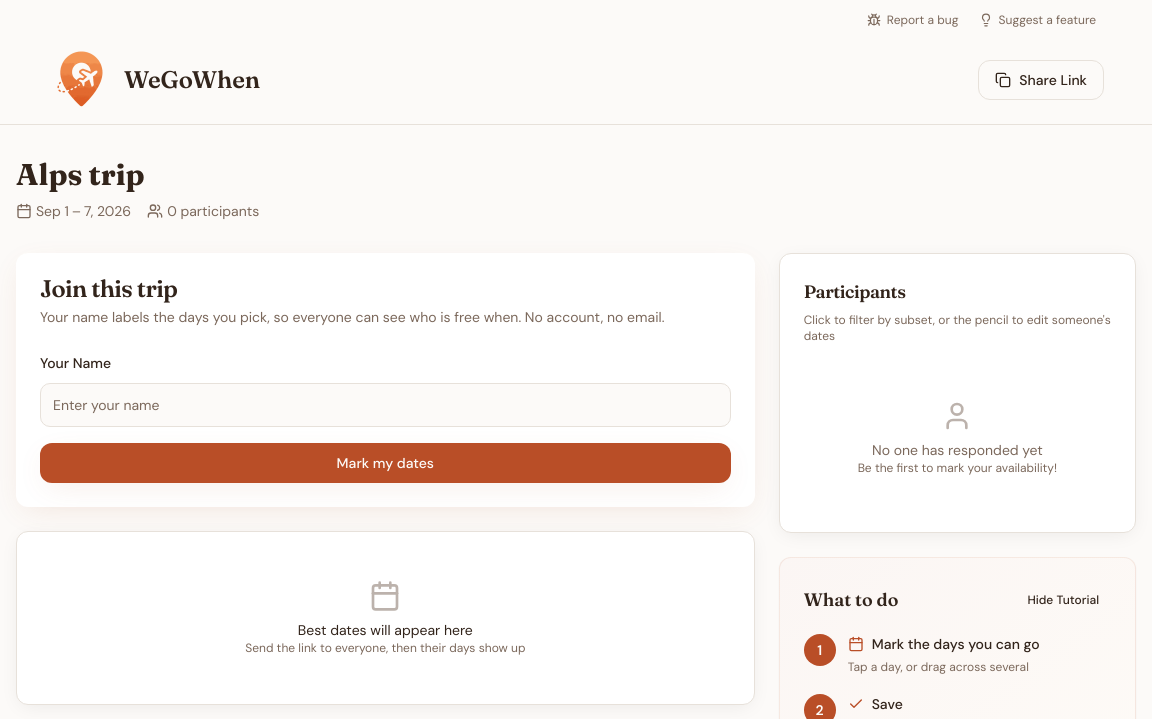
Test: TripPage › copies the trip link to the clipboard
Expected: the heading "Alps trip" is shown, [16, 156, 145, 193]
Click the button "Share Link": coordinates (1041, 80) [978, 60, 1104, 100]
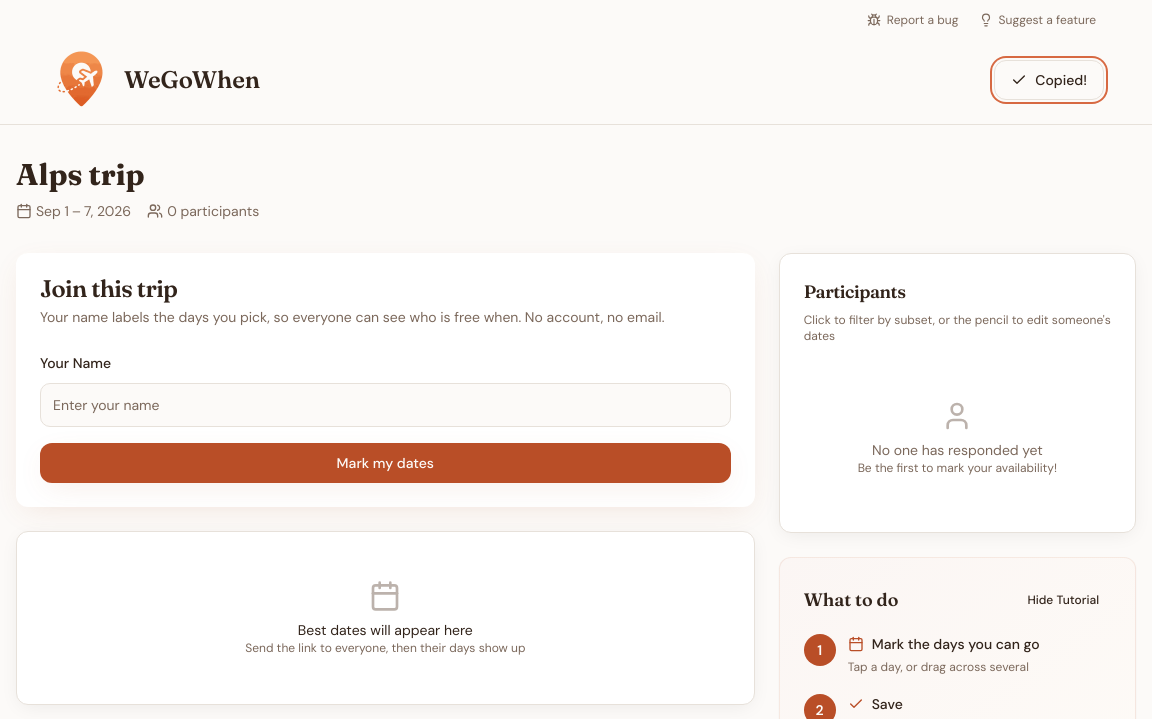
Expected: the button "Copied!" is shown, [994, 60, 1104, 100]
